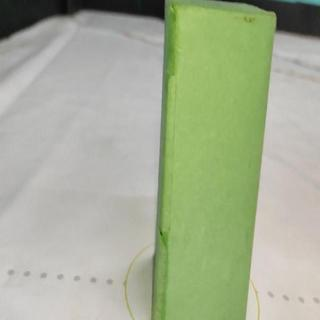greenbox: (149, 2, 280, 320)
